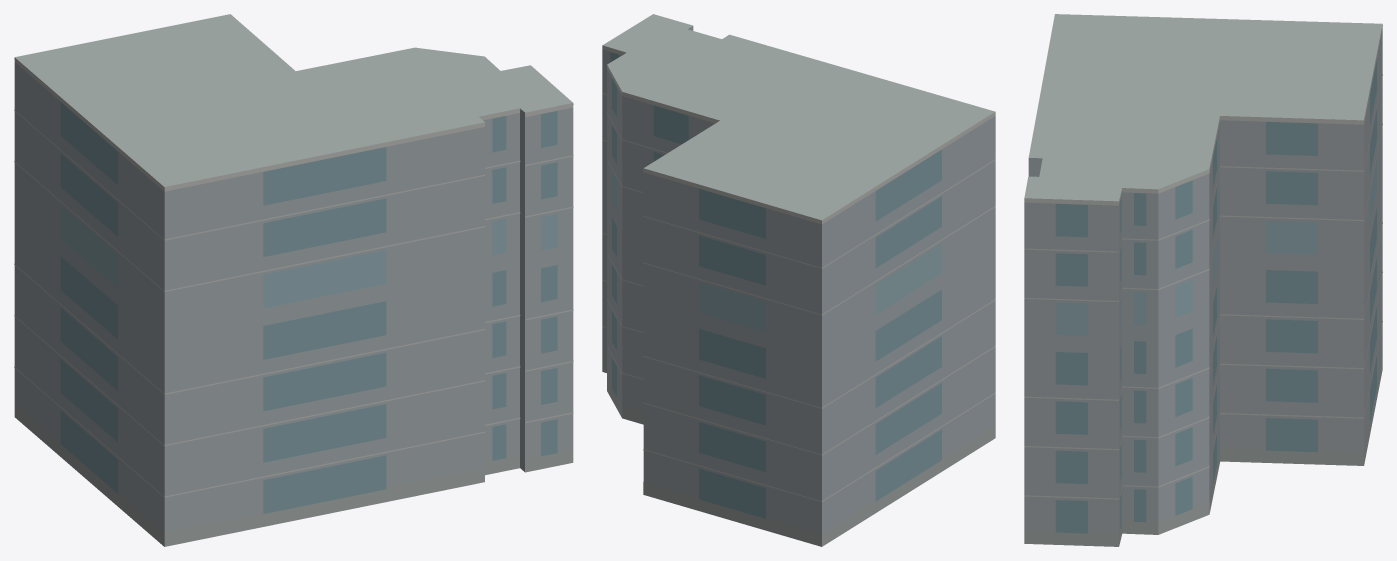
File: survey-upis-32760674.glb
3 views of the same model, side by side, from view 1: azimuth 30°, elevation 25°; view 2: azimuth 150°, elevation 25°; view 3: azimuth 270°, elevation 25° (orthographic). The views are drawn at different scales.
Visible parts, largest first — view 1: survey-upis-32760674.tmp; view 2: survey-upis-32760674.tmp; view 3: survey-upis-32760674.tmp.
Boxes of the visible parts, left/top/right/bottom form: survey-upis-32760674.tmp: left=14, top=14, right=573, bottom=546; survey-upis-32760674.tmp: left=602, top=14, right=995, bottom=546; survey-upis-32760674.tmp: left=1024, top=14, right=1382, bottom=546.
Size of the model in its own units: 22.4 by 19.25 by 18.12.
